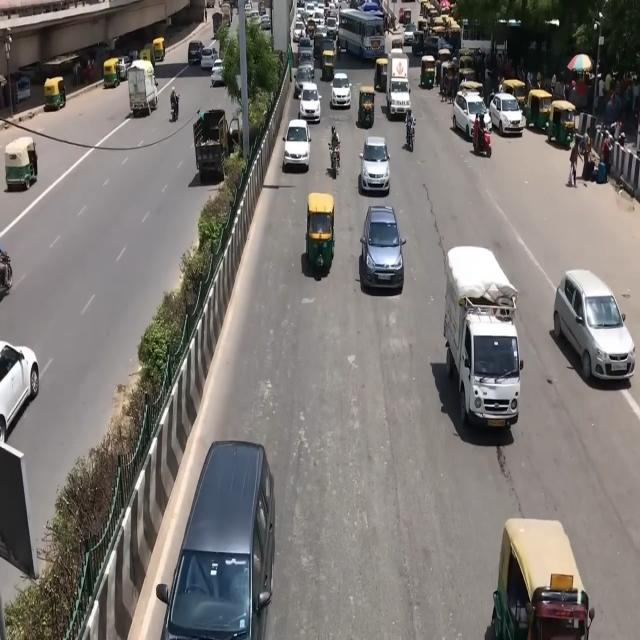auto: (493, 516, 592, 635), (306, 192, 336, 274), (4, 137, 37, 190), (545, 100, 576, 149), (525, 88, 553, 135), (358, 84, 376, 128), (44, 76, 66, 111), (103, 58, 121, 90), (420, 54, 436, 89), (442, 60, 459, 92), (374, 56, 388, 92), (321, 50, 336, 82), (411, 28, 425, 56), (152, 36, 166, 62), (398, 7, 412, 25), (418, 18, 429, 38)
bike-auto: (470, 111, 496, 166), (329, 122, 342, 182), (405, 116, 416, 152), (171, 88, 179, 121)
